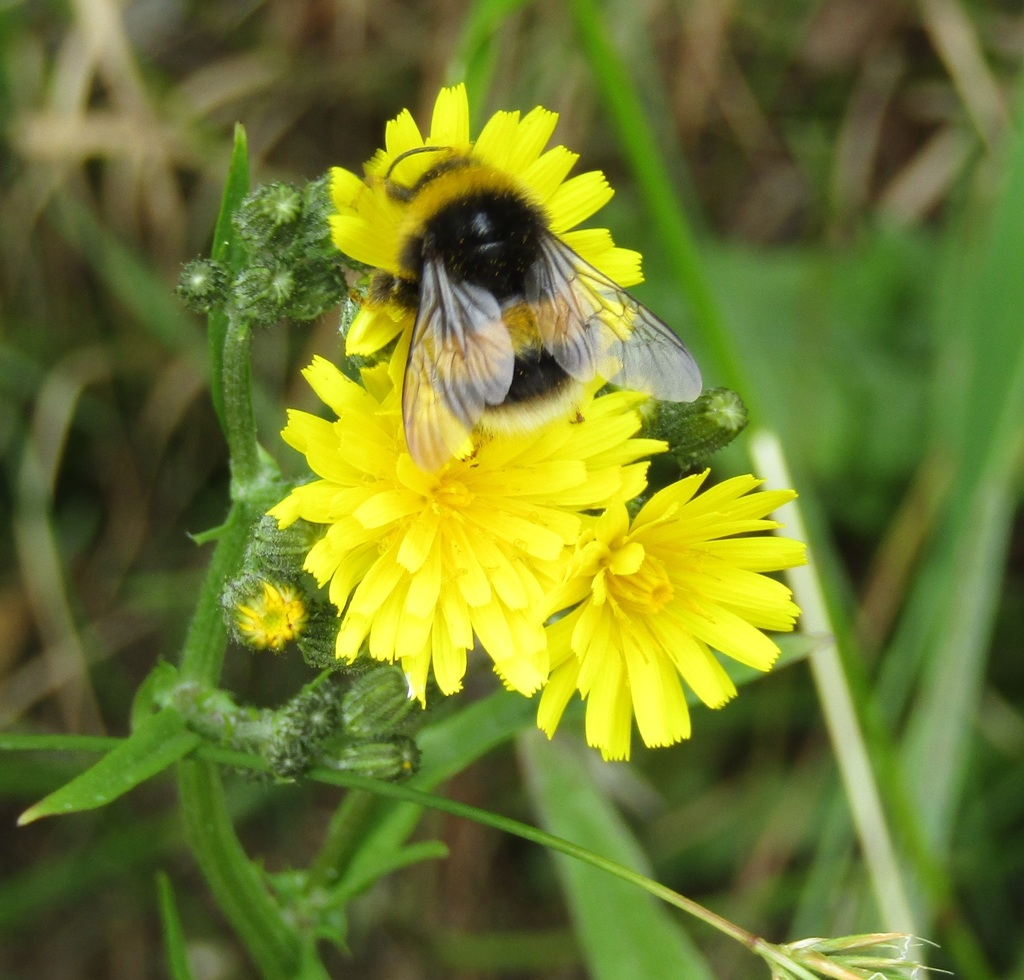bumblebee: (371, 152, 705, 475)
